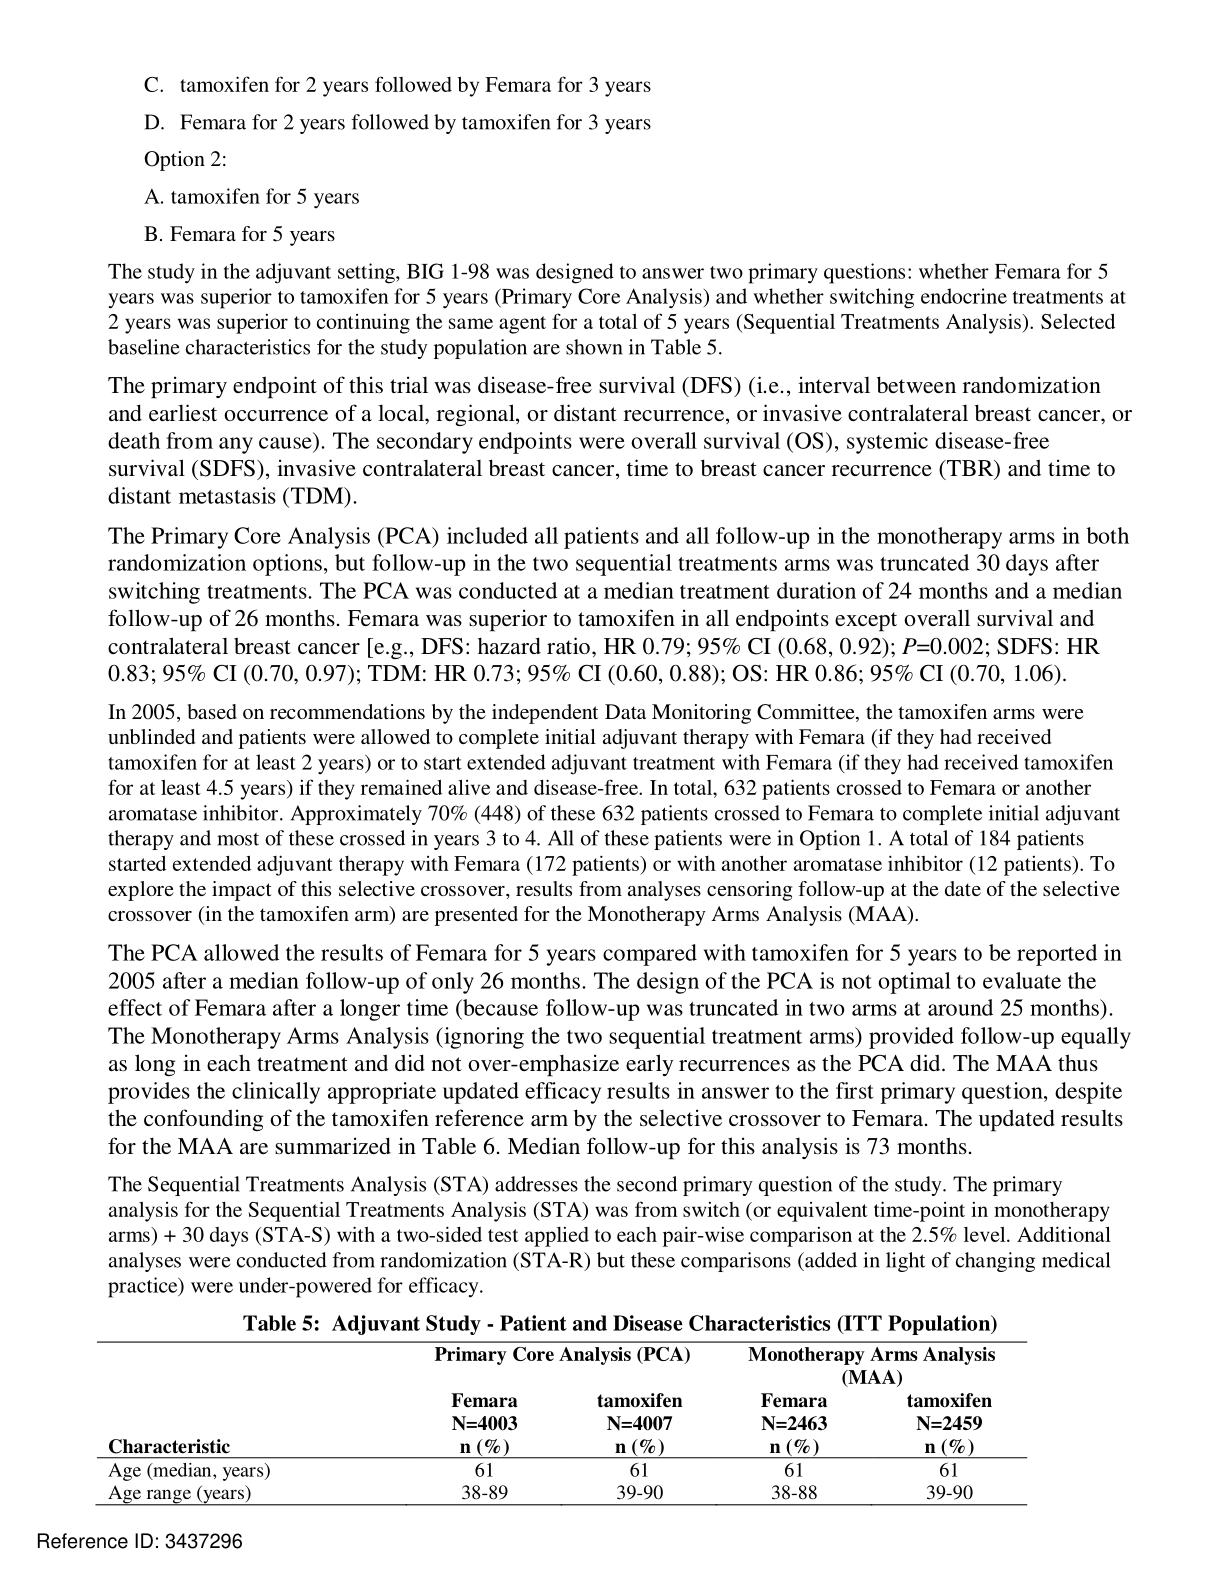partial_lined_merged_cells: (95, 1340, 1027, 1506)
